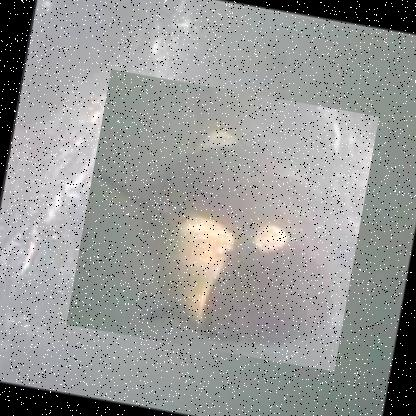killer_whale: (65, 68, 379, 370)
